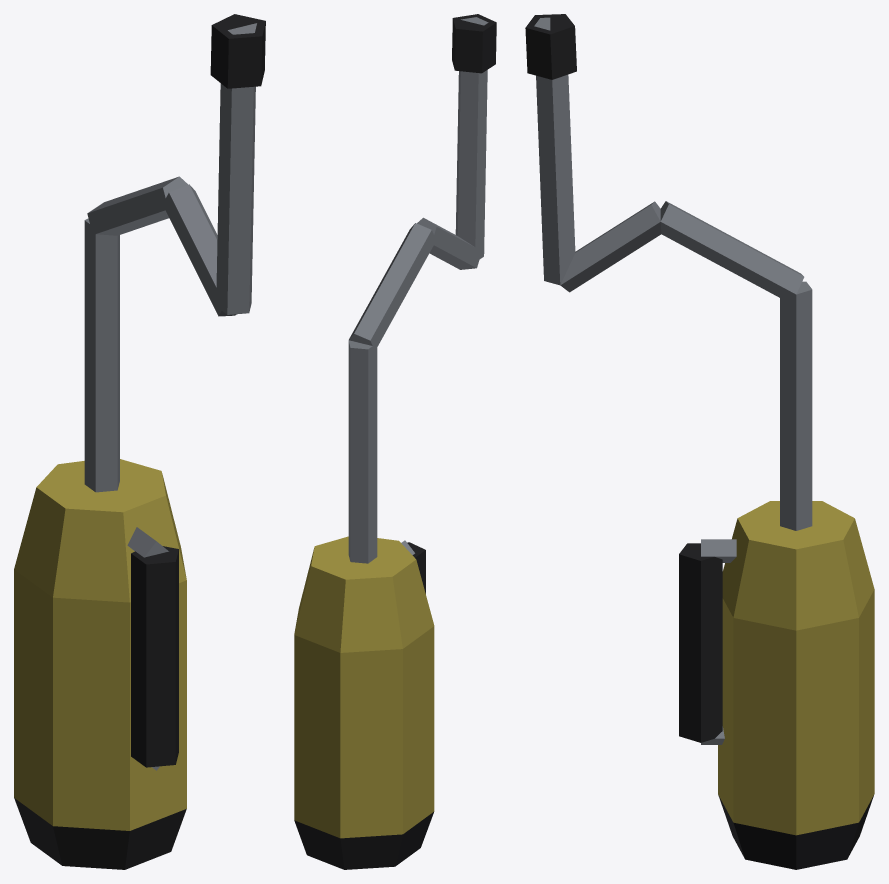
Rendered from T1_drip_torch_a.glb.
The picture shows the model from 3 angles, left to right: view 1: azimuth 30°, elevation 25°; view 2: azimuth 150°, elevation 25°; view 3: azimuth 270°, elevation 25°; orthographic projection. The views are drawn at different scales.
Visible parts, largest first — view 1: T1_drip_torch_a; view 2: T1_drip_torch_a; view 3: T1_drip_torch_a.
Part boxes in pixels (x1,y1,x2,y2): T1_drip_torch_a: [14, 14, 265, 869]; T1_drip_torch_a: [294, 14, 496, 869]; T1_drip_torch_a: [525, 14, 874, 869].
Bounding box in the file's own units: 0.1519 × 0.9 × 0.3473.
